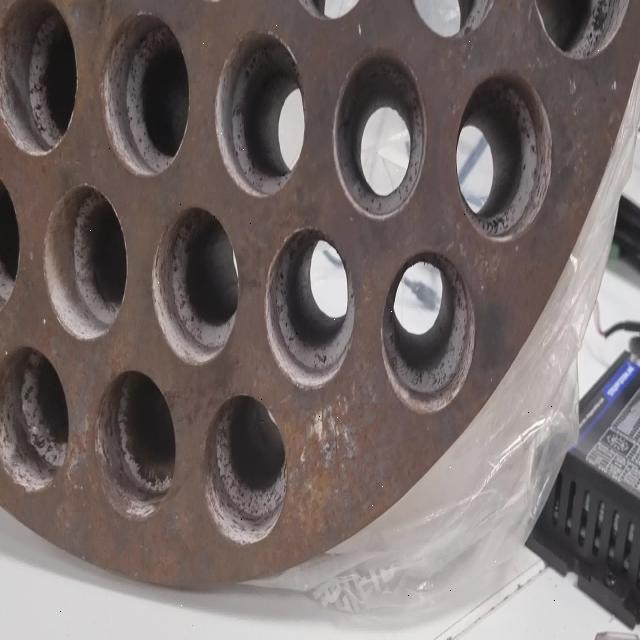Hole: (455, 70, 553, 242), (334, 48, 428, 220), (214, 29, 306, 199), (382, 251, 476, 413), (264, 225, 355, 390), (101, 11, 189, 178), (152, 207, 239, 366), (43, 184, 127, 341), (203, 393, 287, 547), (94, 369, 176, 521), (1, 1, 78, 157), (1, 345, 70, 493), (530, 0, 633, 60)
